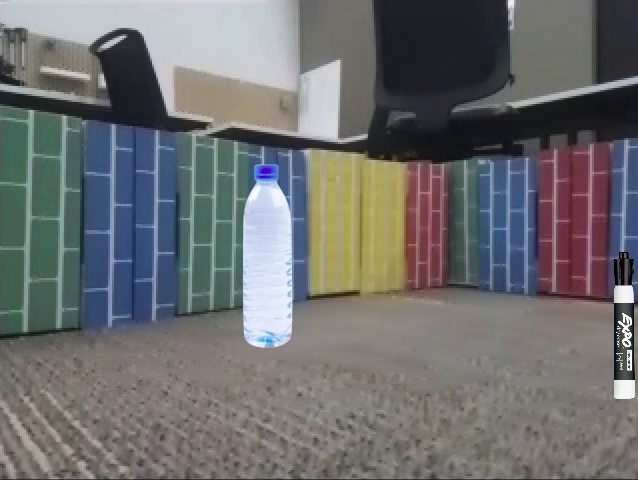ball: (228, 323, 264, 359)
